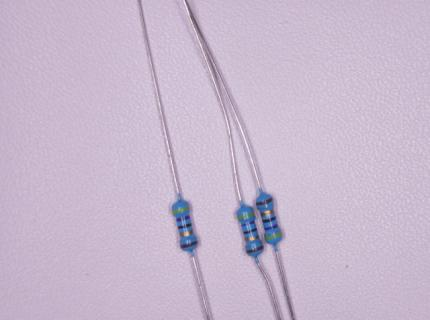Black band: (178, 222, 193, 230), (263, 216, 277, 224), (243, 228, 258, 235)
Brown band: (246, 245, 264, 255), (180, 240, 198, 249), (256, 198, 273, 206)
Gold band: (179, 229, 194, 237), (244, 235, 259, 242), (260, 209, 275, 216)
Violet band: (264, 223, 279, 231), (241, 220, 255, 227), (176, 215, 191, 221)
Yellow band: (237, 211, 255, 219), (172, 206, 190, 214), (265, 232, 282, 240)
